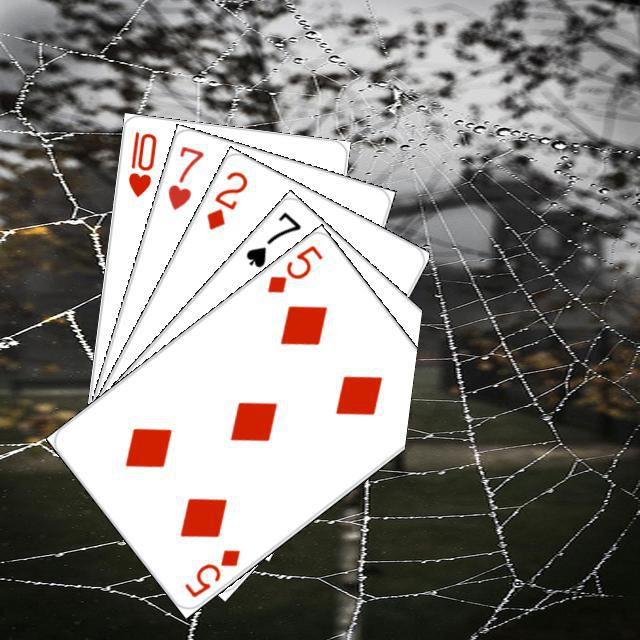10h: (123, 126, 158, 199)
2d: (201, 166, 250, 232)
5d: (179, 544, 243, 600), (262, 240, 325, 295)
7h: (162, 141, 206, 212)
7s: (240, 207, 303, 270)
